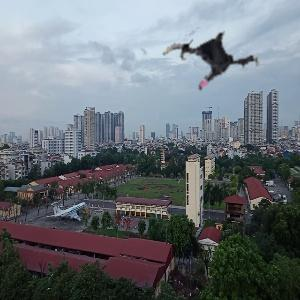drone: (166, 11, 261, 106)
